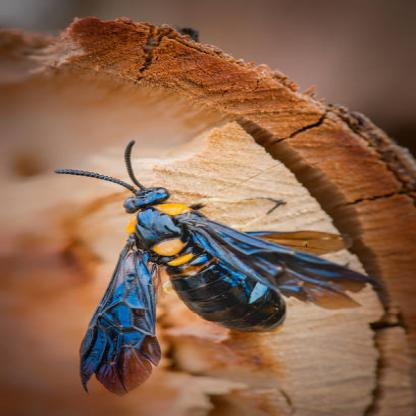sawfly: (46, 139, 370, 387)
